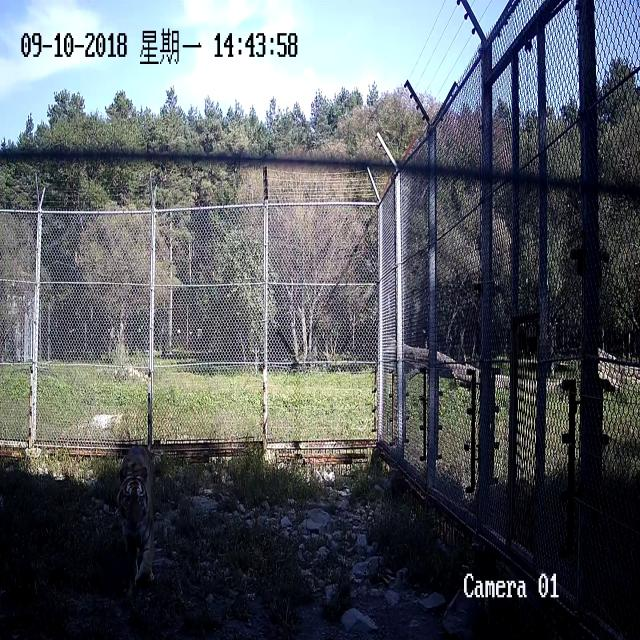Tiger: (97, 447, 204, 633)
